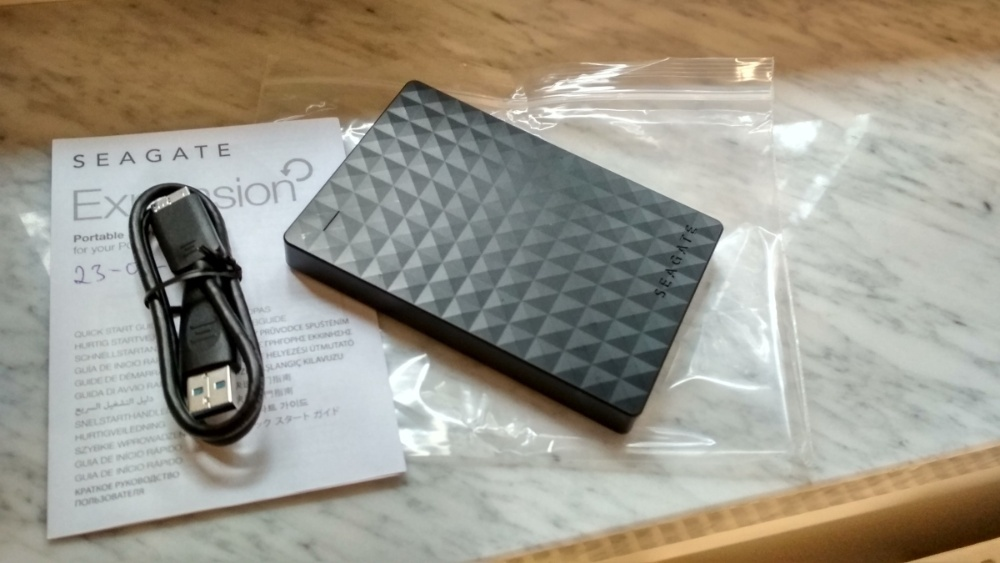seagate-hdd-240gb: (284, 96, 726, 442)
